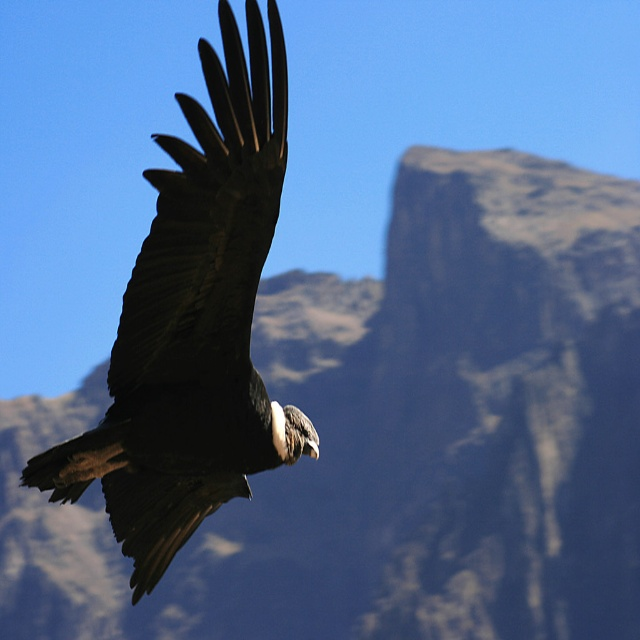Eagle: (19, 0, 324, 607)
